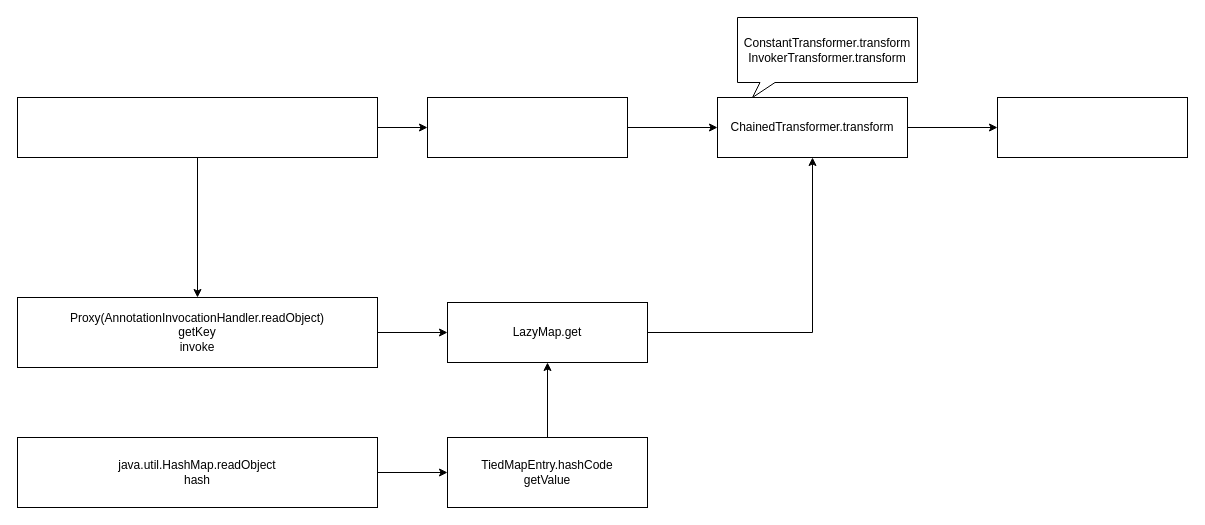
This 1205x525 diagram has some shape labels left out. The box of each missing label's shape, as (x1, y1, x2, y2) in pixels:
(MapEntry )setValue TransformedMap.checkSetValue: (426, 96, 628, 158)
Runtime.getRuntime.exe: (996, 96, 1188, 158)
sun.reflect.annotation. AnnotationInvocationHandler.readObject: (16, 96, 378, 158)
